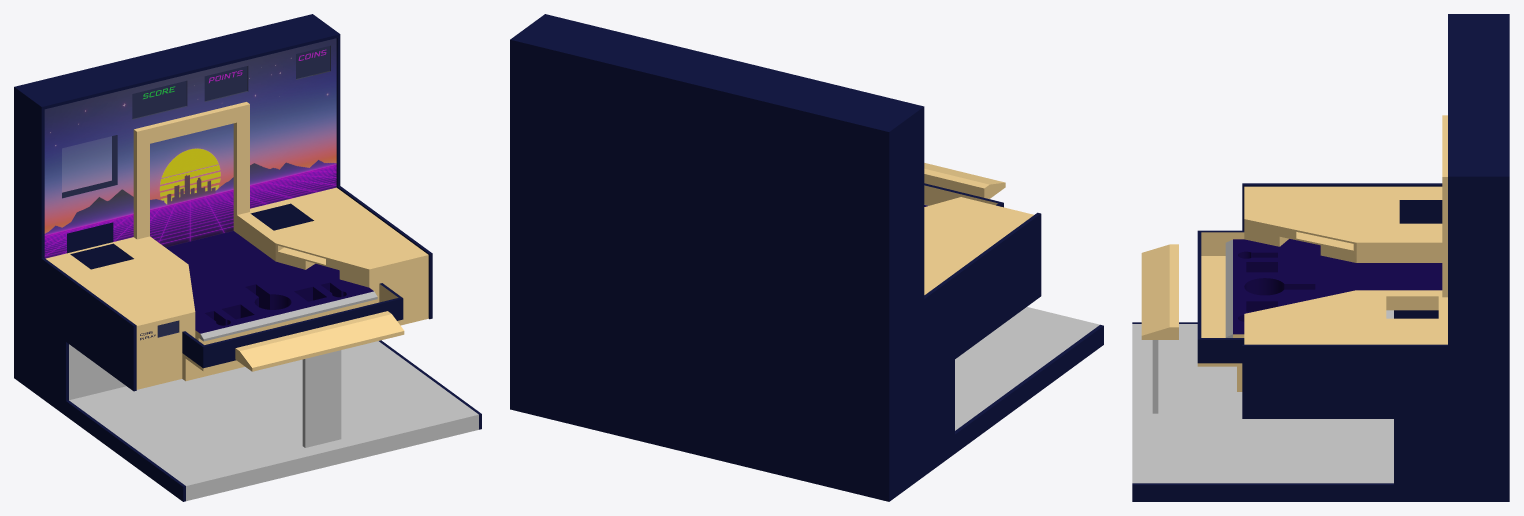
The model's file is cabinet.glb.
3 views of the same model, side by side, from view 1: azimuth 30°, elevation 25°; view 2: azimuth 150°, elevation 25°; view 3: azimuth 270°, elevation 25° (orthographic). The views are drawn at different scales.
Parts seen in each view (by area): view 1: cabinet, glass-support; view 2: cabinet; view 3: cabinet, glass-support.
Part boxes in pixels (bbox=[...]): cabinet: bbox=[14, 14, 481, 501]; glass-support: bbox=[133, 102, 249, 239]; cabinet: bbox=[510, 14, 1103, 501]; cabinet: bbox=[1132, 14, 1509, 501]; glass-support: bbox=[1442, 115, 1447, 297].
Size of the model in its own units: 2.06 by 1.92 by 2.02.
Materials: 14 (1 with a texture image).
